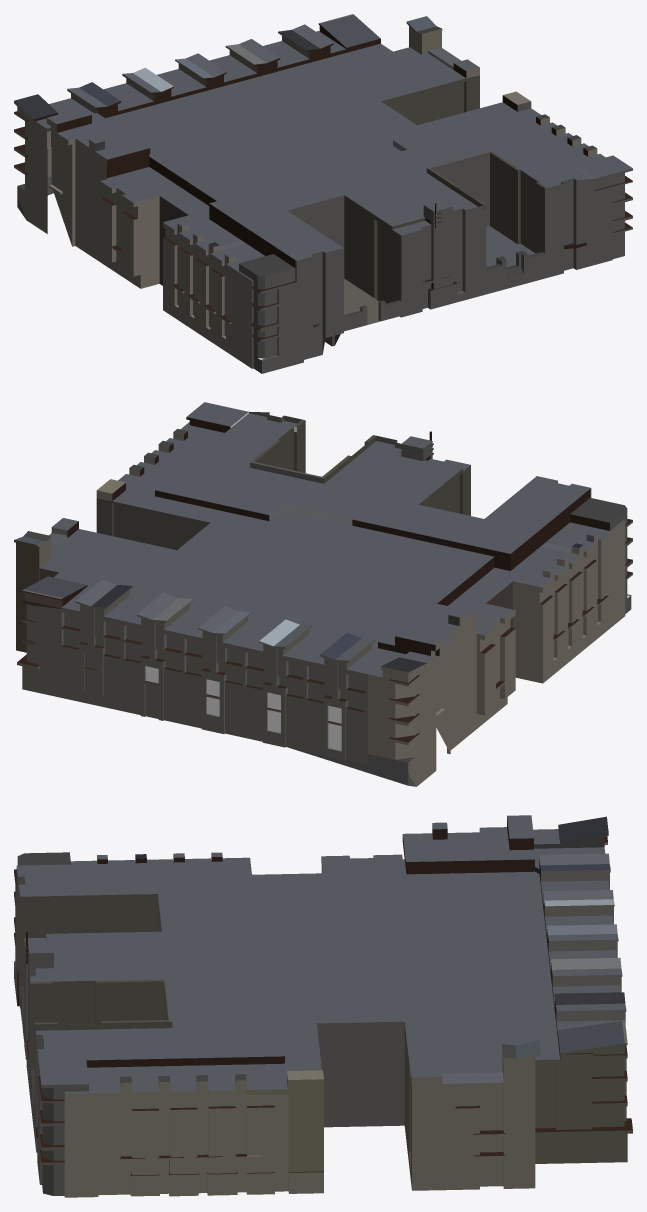
The model's file is museum-bluffs-south.glb.
3 renders of one model, top to bottom at view 1: azimuth 30°, elevation 25°; view 2: azimuth 150°, elevation 25°; view 3: azimuth 270°, elevation 25°, orthographic. The views are drawn at different scales.
Visible parts, largest first — view 1: LOD0; view 2: LOD0; view 3: LOD0.
Part boxes in pixels (x1,y1,x2,y2): LOD0: (14, 14, 632, 373); LOD0: (14, 402, 632, 786); LOD0: (14, 815, 632, 1197).
Size of what is drawn, in the model's own units: 81.74 by 23.81 by 82.93.
2 materials, 2 textured.
